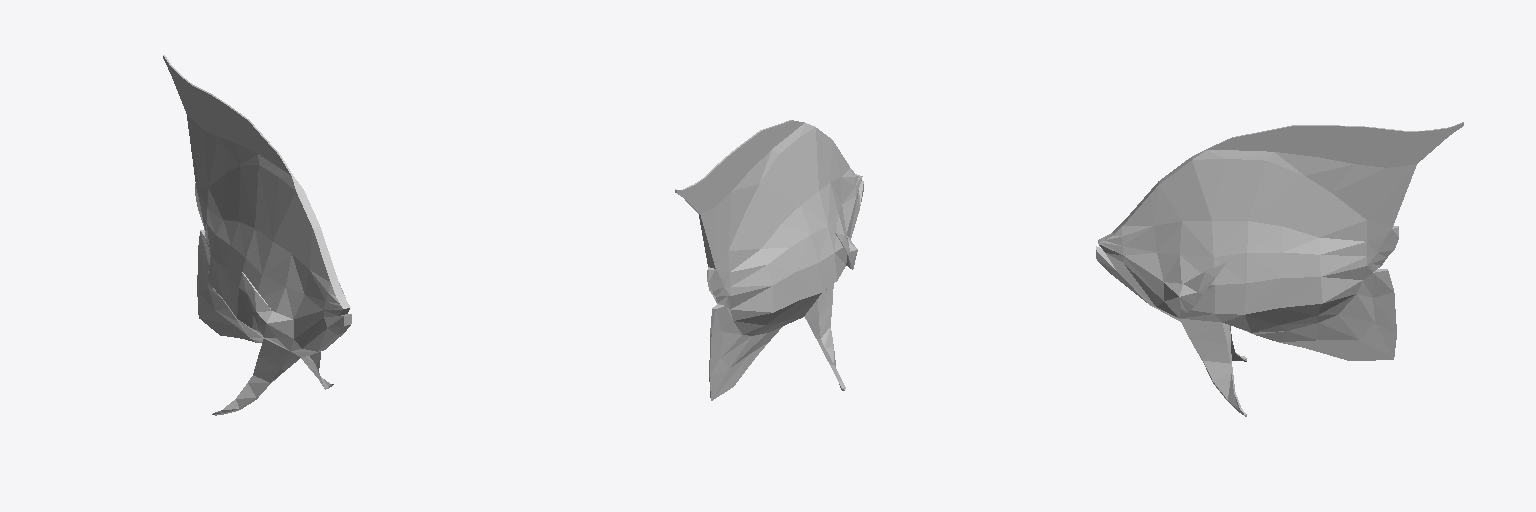
File: cuerpo.obj
3 renders of one model, left to right at view 1: azimuth 30°, elevation 25°; view 2: azimuth 150°, elevation 25°; view 3: azimuth 270°, elevation 25°, orthographic.
Visible parts, largest first — view 1: polySurface1 TropicalFish15; view 2: polySurface1 TropicalFish15; view 3: polySurface1 TropicalFish15.
Boxes of the visible parts, box(x1,y1,x2,y2) form: polySurface1 TropicalFish15: box(163, 55, 351, 415); polySurface1 TropicalFish15: box(675, 120, 863, 400); polySurface1 TropicalFish15: box(1096, 122, 1463, 416).
Bounding box in the file's own units: 1.39 × 2.93 × 3.66.